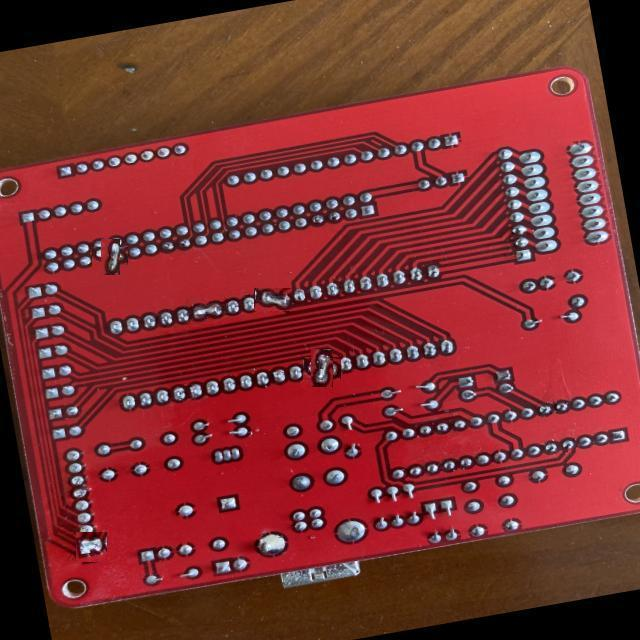damged: (190, 297, 228, 322), (307, 353, 337, 384), (76, 532, 106, 563), (254, 287, 292, 311), (96, 244, 124, 272)
